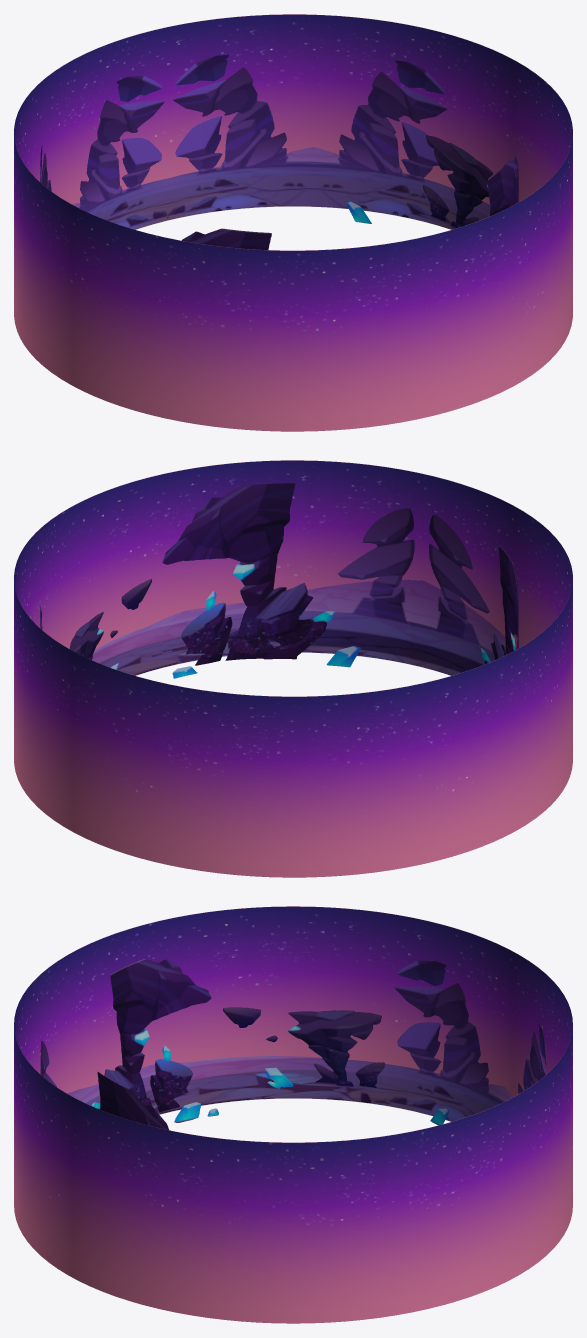
File: Arte_001.fbx
3 views of the same model, one above another, from view 1: azimuth 30°, elevation 25°; view 2: azimuth 150°, elevation 25°; view 3: azimuth 270°, elevation 25° (orthographic).
Visible parts, largest first — view 1: Cylinder004, Cylinder005, Cylinder006; view 2: Cylinder004, Cylinder005, Cylinder006; view 3: Cylinder004, Cylinder005, Cylinder006.
Part boxes in pixels (x1,y1,x2,y2): Cylinder004: [14, 14, 572, 431]; Cylinder005: [40, 54, 490, 229]; Cylinder006: [182, 135, 518, 249]; Cylinder004: [14, 460, 572, 877]; Cylinder005: [40, 507, 516, 675]; Cylinder006: [69, 483, 518, 678]; Cylinder004: [14, 906, 572, 1323]; Cylinder005: [40, 960, 546, 1121]; Cylinder006: [91, 959, 448, 1129].
Size of the model in its own units: 14 by 5 by 14.
3 materials, 3 textured.
